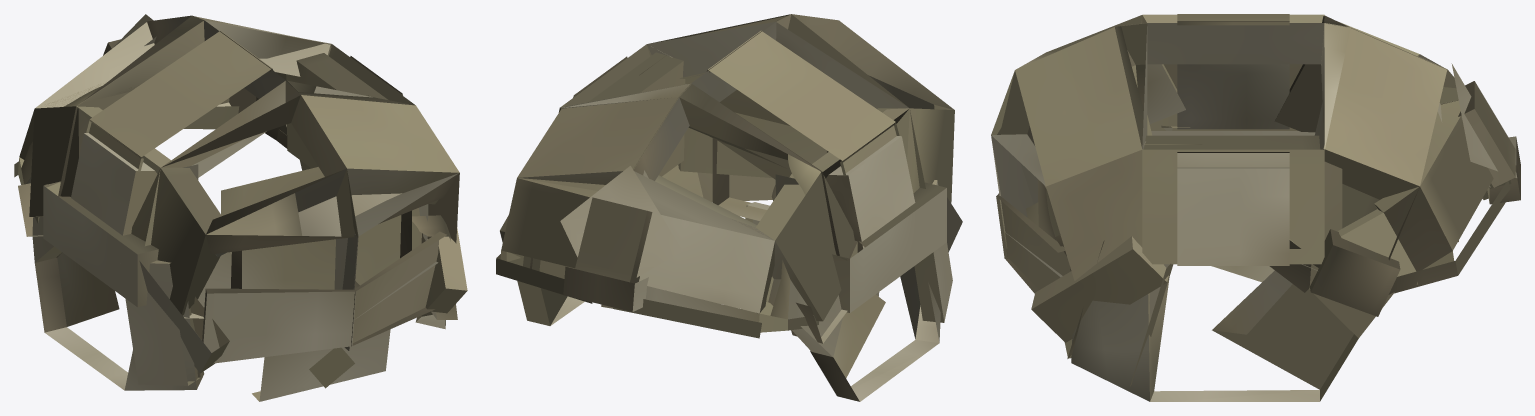
The model's file is ukrainian_h.obj.
The picture shows the model from 3 angles, left to right: view 1: azimuth 30°, elevation 25°; view 2: azimuth 150°, elevation 25°; view 3: azimuth 270°, elevation 25°; orthographic projection. The views are drawn at different scales.
Visible parts, largest first — view 1: cube; view 2: cube; view 3: cube.
Part boxes in pixels (<box>): cube: <box>14,14,467,401</box>; cube: <box>496,14,962,401</box>; cube: <box>991,14,1520,401</box>.
Size of the model in its own units: 0.7402 by 0.5973 by 0.9441.
